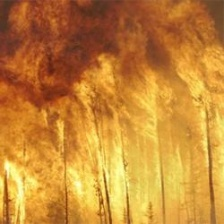fire: (1, 52, 224, 223)
